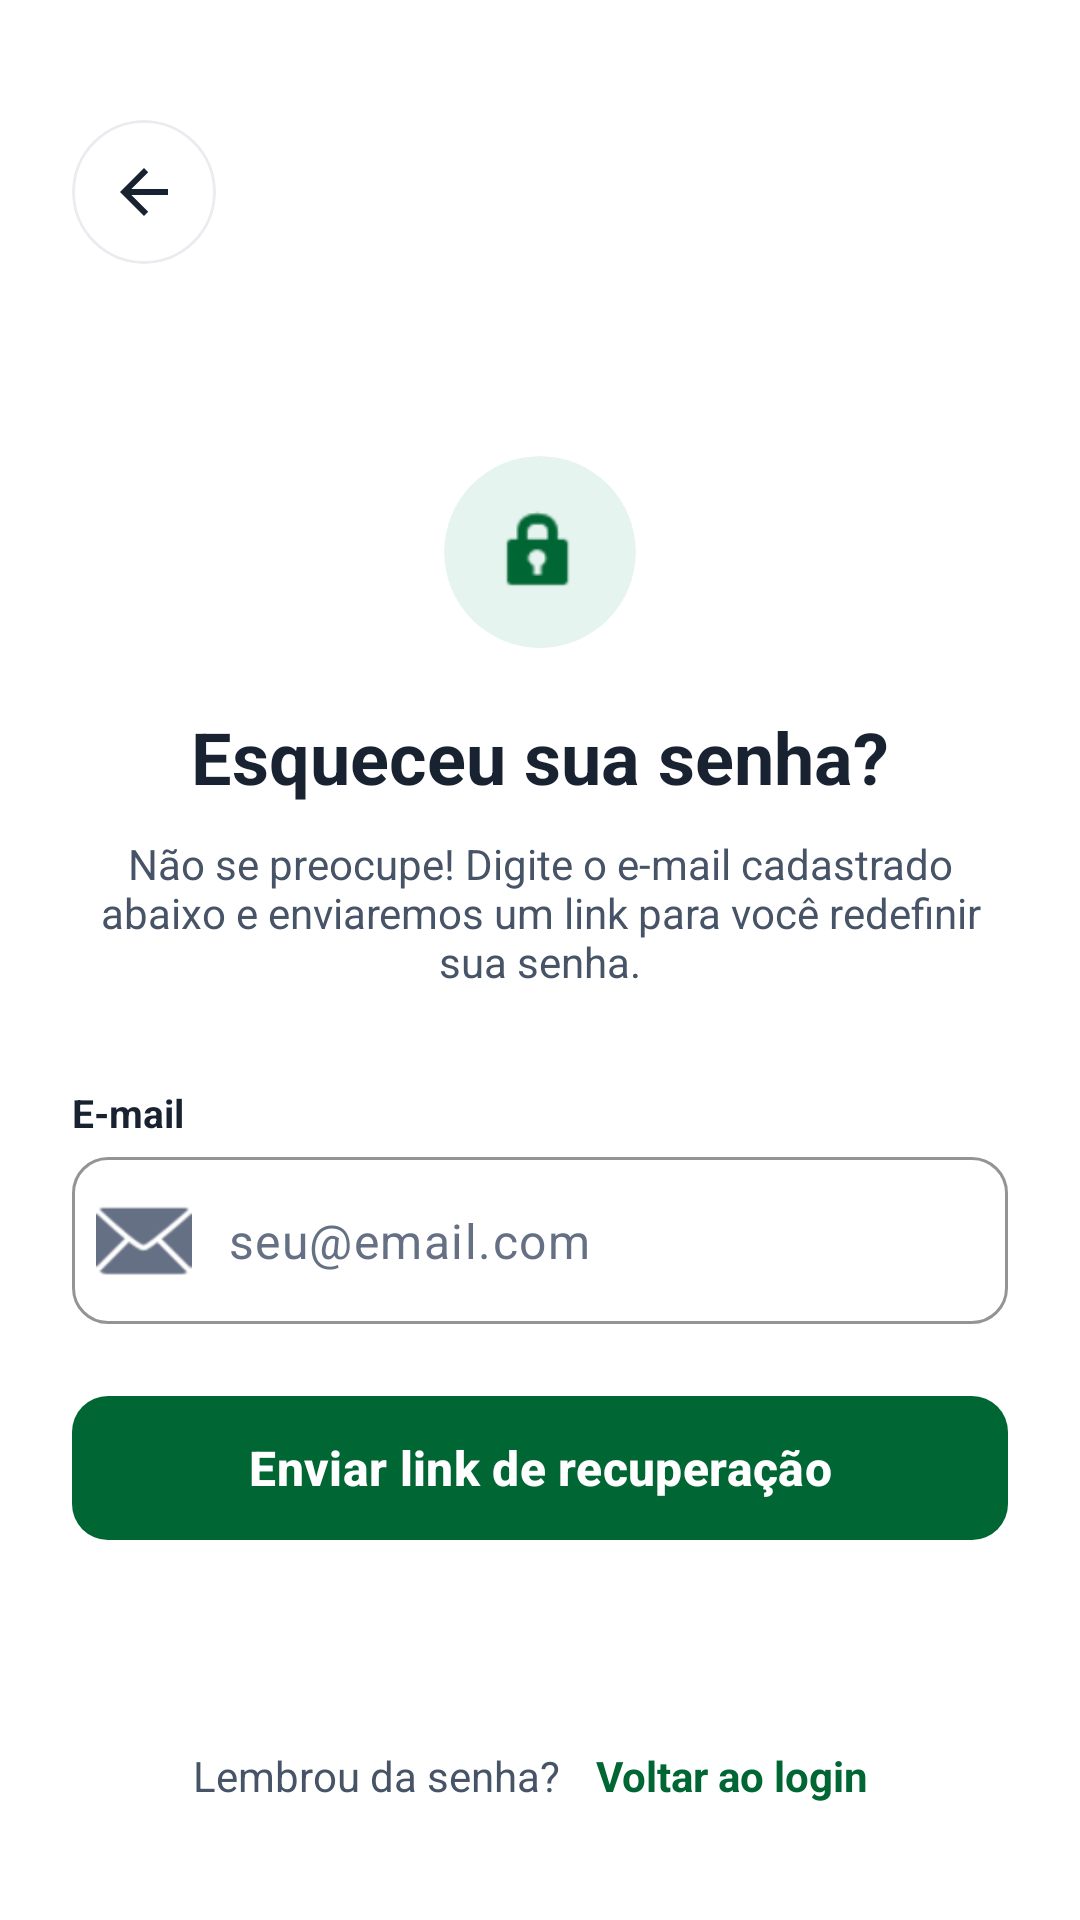

Named icons in this screenshot (1080w x 1920h) and their bounding boxes, (x1, y1, x2, y2):
Voltar: (120, 168, 168, 216)
